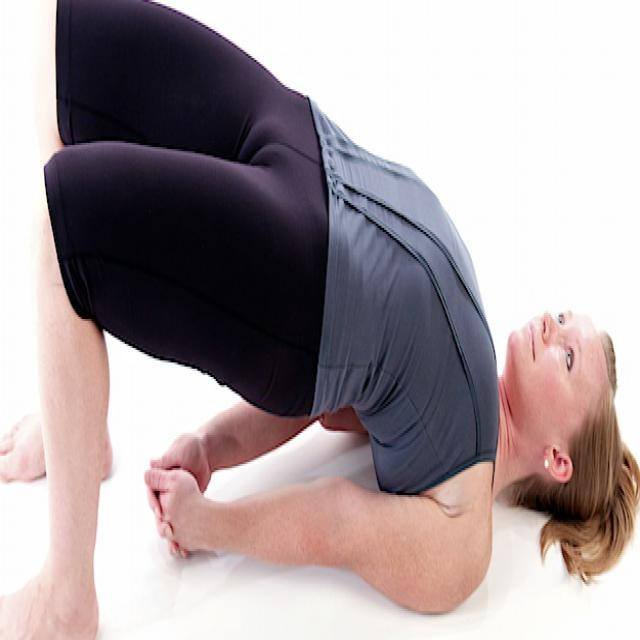yoga-pose bridge: (15, 15, 618, 613)
